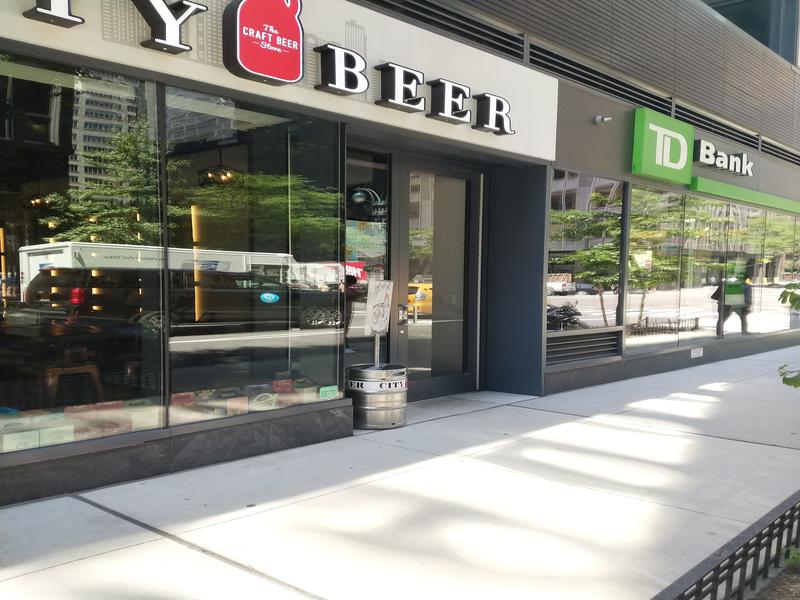door: (399, 154, 494, 399)
